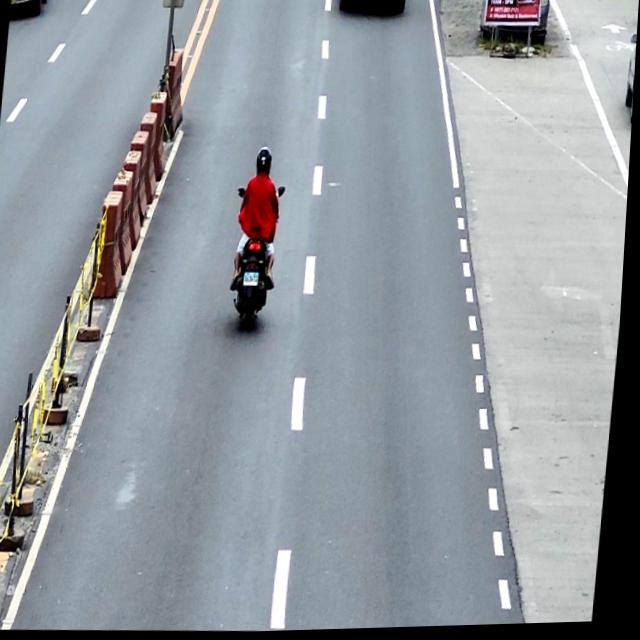Car: (623, 21, 638, 127)
License-Plate: (246, 273, 262, 287)
Motorcycle: (227, 185, 288, 333)
